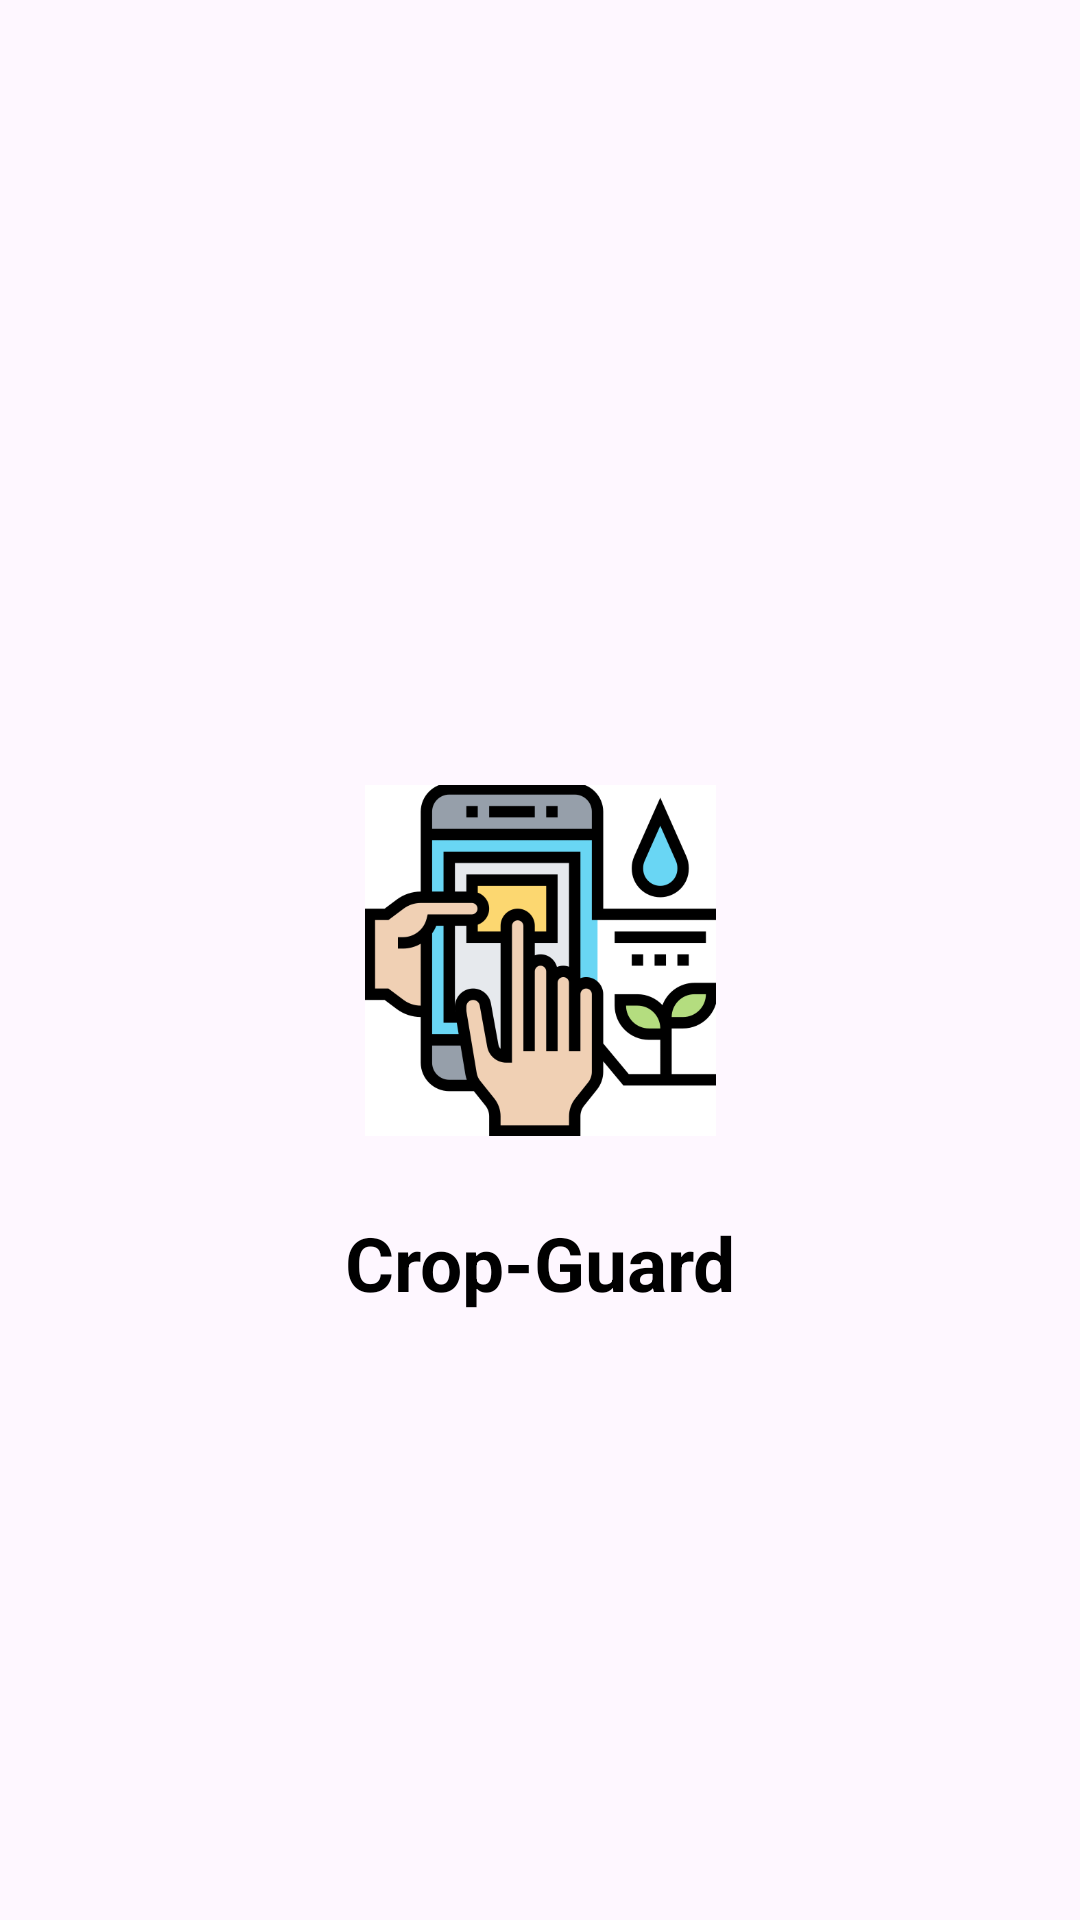

Named icons in this screenshot (1080 x 1920) and their centers, point (x, y):
iconimage: point (540, 960)
